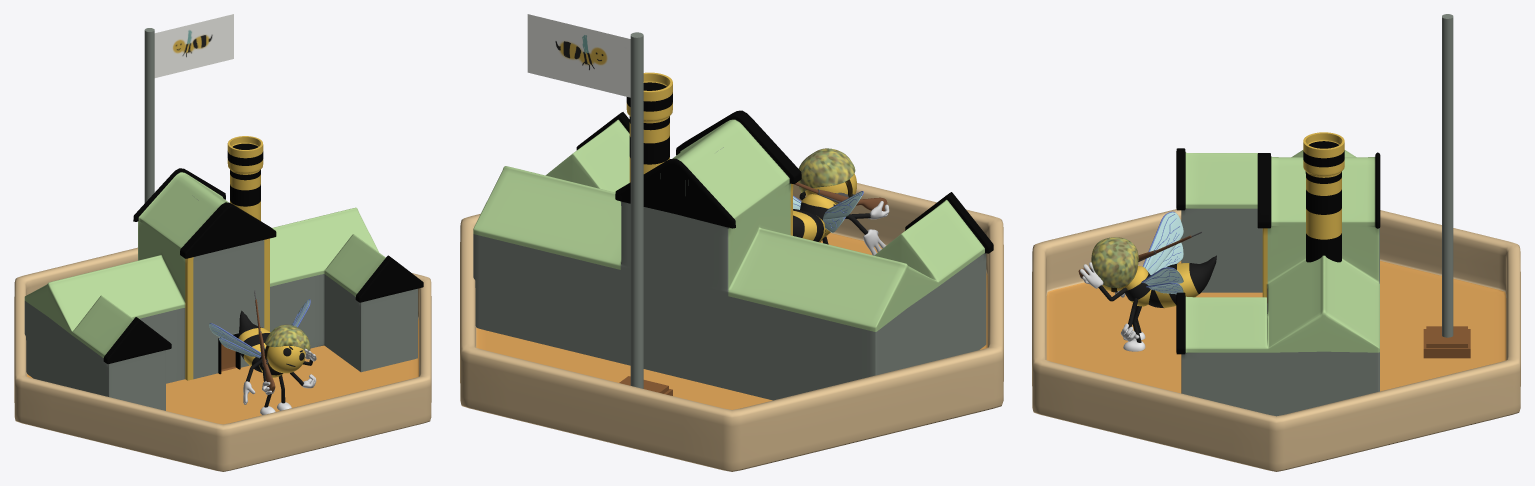
The model's file is Soldier Tile.fbx.
3 renders of one model, left to right at view 1: azimuth 30°, elevation 25°; view 2: azimuth 150°, elevation 25°; view 3: azimuth 270°, elevation 25°, orthographic. The views are drawn at different scales.
Parts seen in each view (by area): view 1: Cube.046, Soldier Tile, Plane.018, Cylinder, Cylinder.029, Sphere.020, Cube.047, Cube.049, Plane.016; view 2: Cube.046, Soldier Tile, Plane.018, Cylinder.029, Cylinder, Sphere.020, Cube.049, Plane.016, Gun.001, Cube.048; view 3: Soldier Tile, Cube.046, Cylinder, Cylinder.029, Sphere.020, Plane.016, Cube.049, Cube.052, Cube.048, Plane.017.
Part boxes in pixels (x1,y1,x2,y2): Cube.046: (24, 168, 423, 410); Soldier Tile: (14, 247, 431, 471); Plane.018: (154, 14, 233, 77); Cylinder: (227, 136, 263, 220); Cylinder.029: (144, 28, 154, 202); Sphere.020: (264, 324, 310, 372); Cube.047: (267, 346, 305, 373); Cube.049: (238, 310, 270, 372); Plane.016: (209, 299, 310, 356); Cube.046: (473, 110, 993, 400); Soldier Tile: (460, 182, 1003, 471); Plane.018: (527, 14, 630, 97); Cylinder.029: (630, 32, 643, 388); Cylinder: (626, 72, 672, 182); Sphere.020: (798, 148, 855, 197); Cube.049: (793, 209, 825, 242); Plane.016: (793, 191, 863, 219); Gun.001: (794, 182, 887, 211); Cube.048: (800, 194, 835, 237); Soldier Tile: (1032, 209, 1520, 471); Cube.046: (1176, 148, 1380, 416); Cylinder: (1303, 132, 1344, 262); Cylinder.029: (1442, 14, 1453, 337); Sphere.020: (1091, 237, 1138, 292); Plane.016: (1141, 211, 1183, 285); Cube.049: (1148, 255, 1216, 308); Cube.052: (1423, 326, 1470, 358); Cube.048: (1125, 266, 1151, 306); Plane.017: (1146, 242, 1183, 294).
Bounding box in the file's own units: 99.54 × 66.02 × 86.6.
